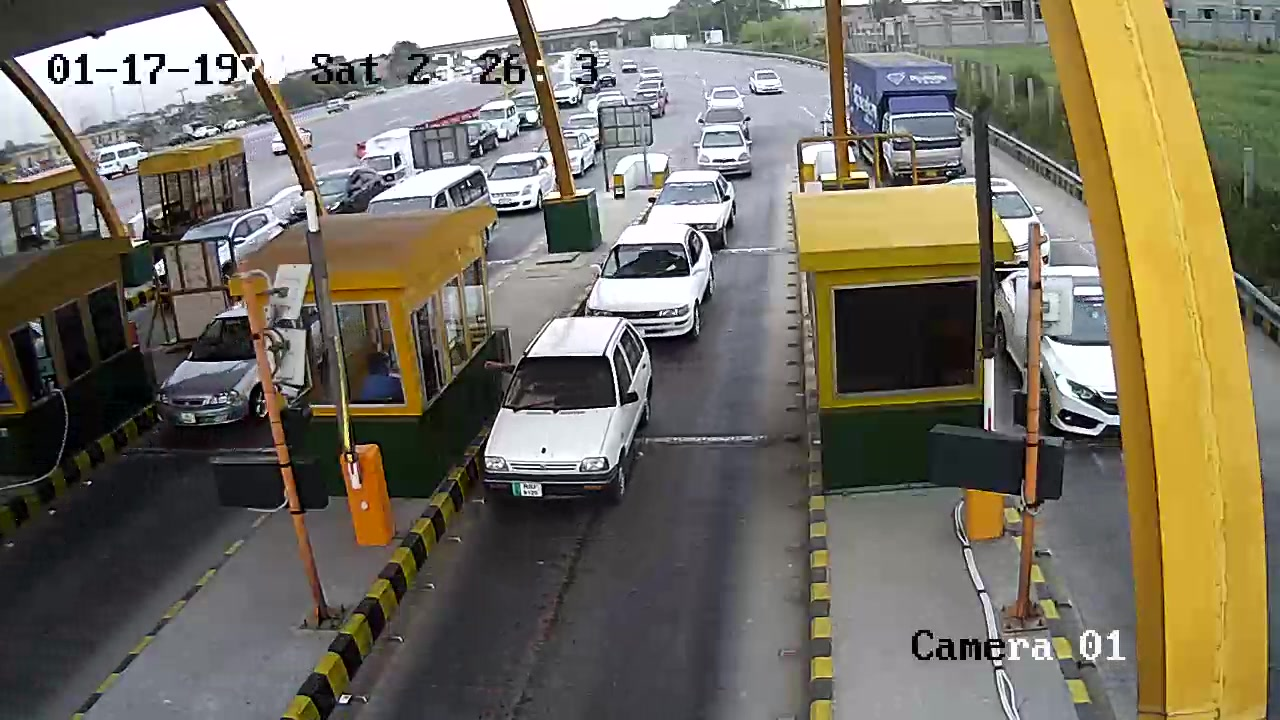F1: (473, 312, 657, 510), (589, 227, 723, 354)
